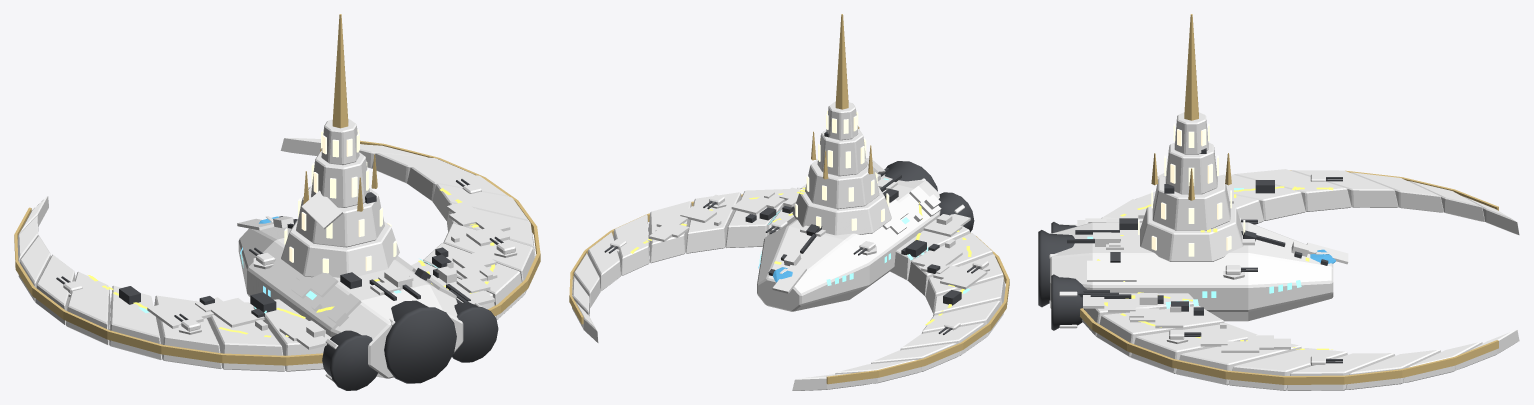
Rendered from senator.glb.
3 renders of one model, left to right at view 1: azimuth 30°, elevation 25°; view 2: azimuth 150°, elevation 25°; view 3: azimuth 270°, elevation 25°, orthographic. The views are drawn at different scales.
Parts seen in each view (by area): view 1: Накладные_плиты, Корпус, Кожух_дюзы.002, Ярус_башни, Ярус_башни.001, Кожух_дюзы.001, Дуга.012, Механика, Дуга.014, Кожух_дюзы, Дуга.015, Ярус_башни.002 (+20 smaller); view 2: Корпус, Накладные_плиты, Ярус_башни, Ярус_башни.001, Дуга.003, Механика, Дуга.002, Дуга.005, Ярус_башни.002, Дуга.004, Дуга.012, Дуга.014 (+17 smaller); view 3: Корпус, Накладные_плиты, Ярус_башни, Ярус_башни.001, Дуга.015, Механика, Дуга.005, Дуга.002, Дуга.003, Ярус_башни.002, Дуга.016, Дуга.004 (+23 smaller).
Part boxes in pixels (box(x1,y1,x2,y2)): Накладные_плиты: box(147, 190, 510, 349); Корпус: box(238, 227, 463, 378); Кожух_дюзы.002: box(384, 300, 456, 383); Ярус_башни: box(281, 219, 399, 277); Ярус_башни.001: box(296, 186, 384, 247); Кожух_дюзы.001: box(322, 330, 377, 390); Дуга.012: box(207, 302, 285, 371); Механика: box(119, 192, 470, 318); Дуга.014: box(109, 285, 161, 359); Кожух_дюзы: box(452, 302, 498, 362); Дуга.015: box(66, 271, 110, 344); Ярус_башни.002: box(311, 151, 369, 207); Корпус: box(757, 174, 940, 311); Накладные_плиты: box(649, 158, 987, 293); Ярус_башни: box(792, 185, 891, 235); Ярус_башни.001: box(805, 158, 879, 209); Дуга.003: box(685, 192, 741, 253); Механика: box(745, 131, 961, 305); Дуга.002: box(725, 189, 789, 247); Дуга.005: box(613, 214, 649, 275); Ярус_башни.002: box(817, 128, 866, 176); Дуга.004: box(648, 201, 691, 263); Дуга.012: box(908, 233, 992, 296); Дуга.014: box(933, 277, 1005, 316); Корпус: box(1050, 222, 1333, 321); Накладные_плиты: box(1077, 173, 1348, 352); Ярус_башни: box(1140, 206, 1243, 261); Ярус_башни.001: box(1152, 176, 1230, 230); Дуга.015: box(1233, 169, 1351, 211); Механика: box(1067, 148, 1328, 315); Дуга.005: box(1228, 348, 1347, 390); Дуга.002: box(1096, 306, 1224, 357); Дуга.003: box(1131, 323, 1258, 373); Ярус_башни.002: box(1165, 142, 1217, 194); Дуга.016: box(1291, 170, 1398, 207); Дуга.004: box(1175, 343, 1301, 385).
Size of the model in its own units: 1.73 by 1.13 by 1.7.
